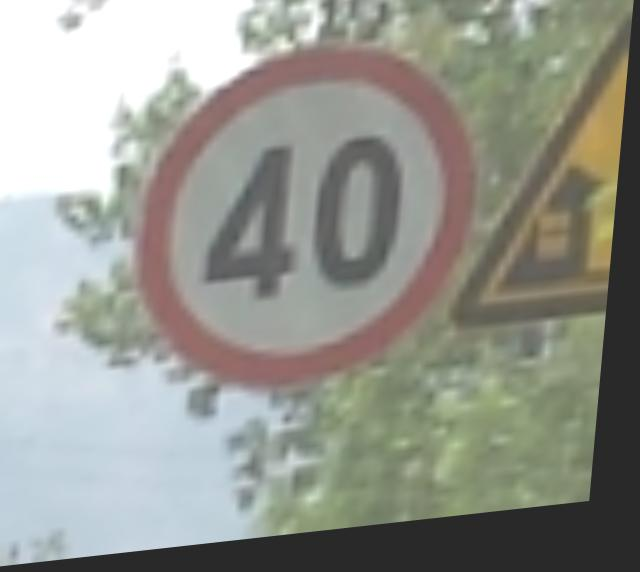limit40: (116, 23, 502, 412)
